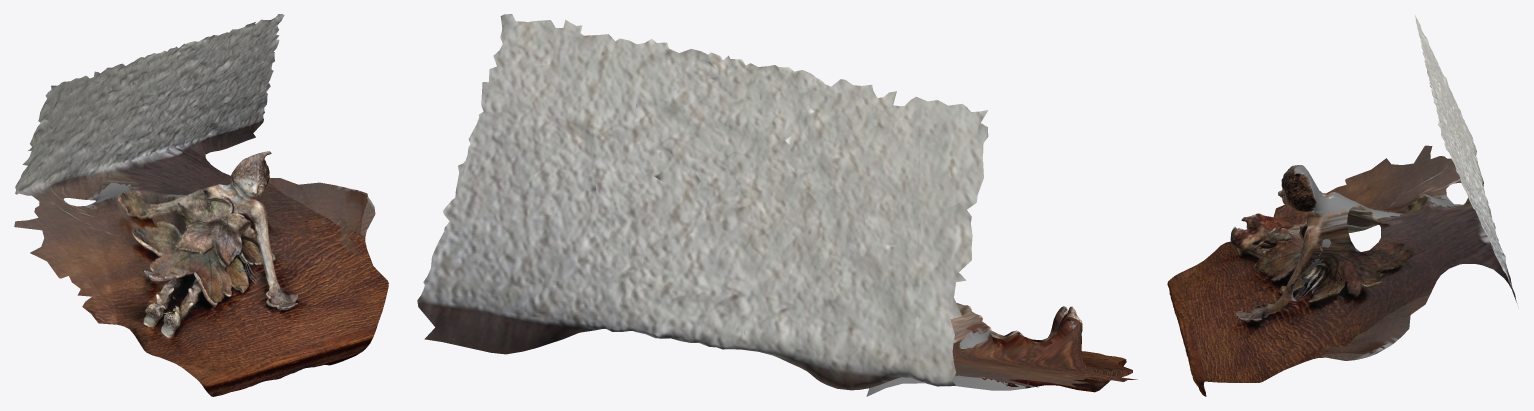
Rendered from takkeWijfie.obj.
3 views of the same model, side by side, from view 1: azimuth 30°, elevation 25°; view 2: azimuth 150°, elevation 25°; view 3: azimuth 270°, elevation 25° (orthographic). The views are drawn at different scales.
Parts seen in each view (by area): view 1: default; view 2: default; view 3: default.
Part boxes in pixels (x1,y1,x2,y2): default: [14, 14, 388, 396]; default: [417, 14, 1137, 396]; default: [1167, 14, 1517, 396].
Bounding box in the file's own units: 25.19 × 18.63 × 21.33.
Materials: 2 (1 with a texture image).
